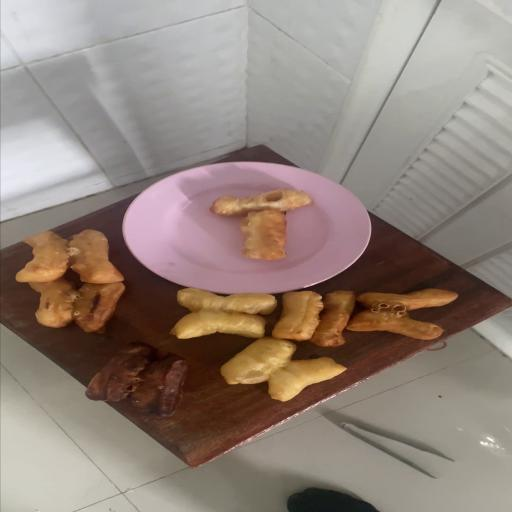street_burnt_defect: (87, 342, 187, 417), (30, 282, 124, 332)
